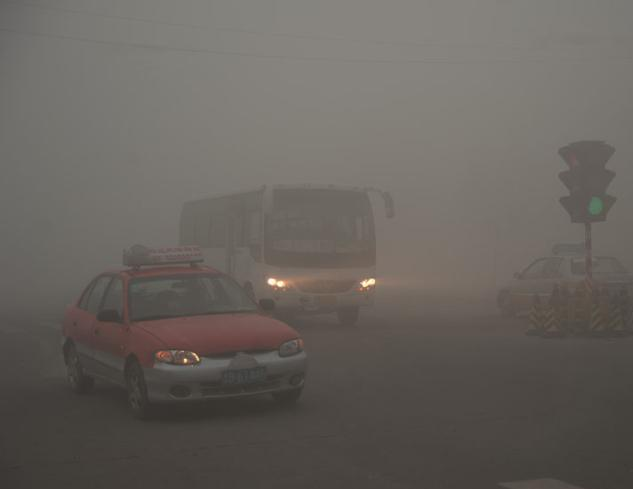bus: (172, 176, 398, 328)
car: (58, 247, 308, 420), (499, 238, 629, 319)
